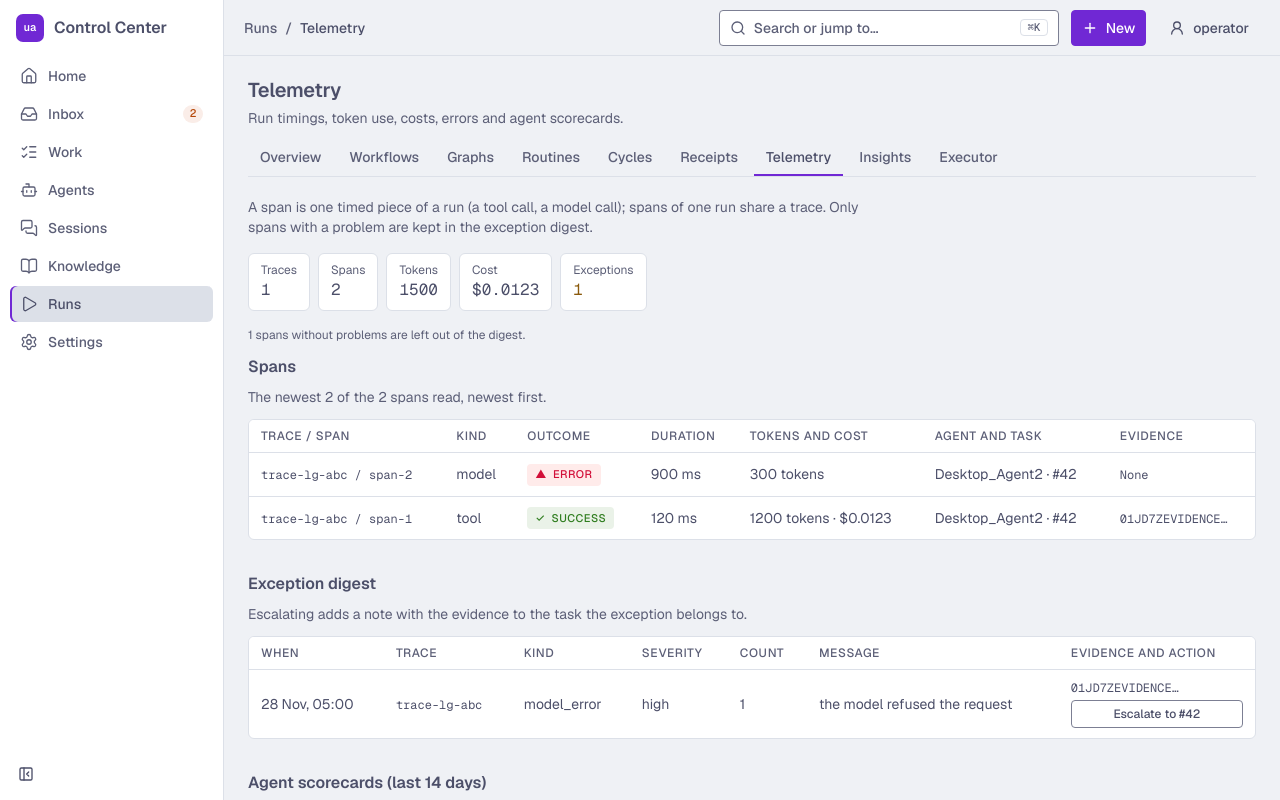
Test case: Runs history pages › telemetry: summary, spans, exceptions with Escalate, and scorecards
Check: the element named "Telemetry summary" shows "$0.0123", box top-left (472, 279), bottom-right (539, 300)
Check: the table named "Telemetry spans" shows "1200 tokens · $0.0123", box top-left (750, 509), bottom-right (892, 527)
Click the button "Escalate to #42". click: (1157, 714)
box: top-left (1071, 700), bottom-right (1243, 728)
(page scrolled)
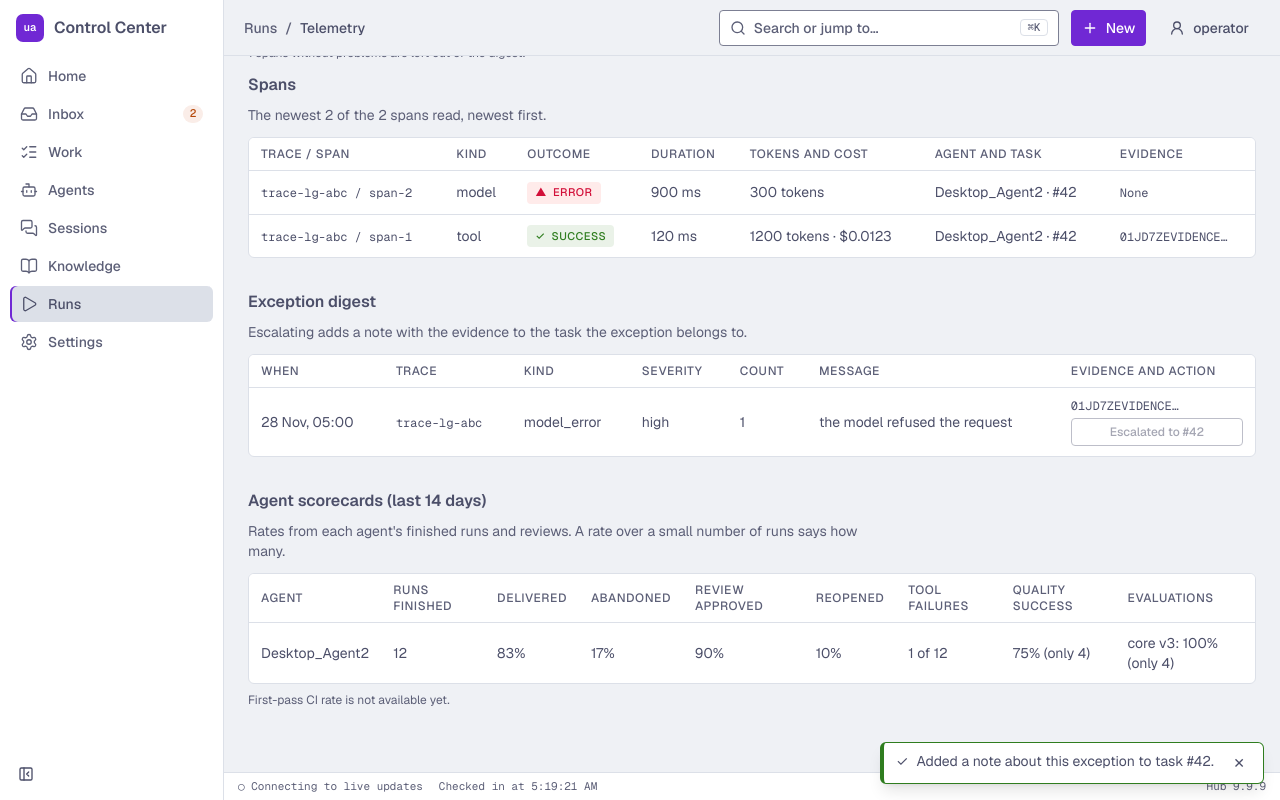
Check: the table named "Agent scorecards" shows "83%", box top-left (497, 644), bottom-right (525, 662)
Check: the button "Escalated to #42" is disabled, box top-left (1071, 418), bottom-right (1243, 446)
